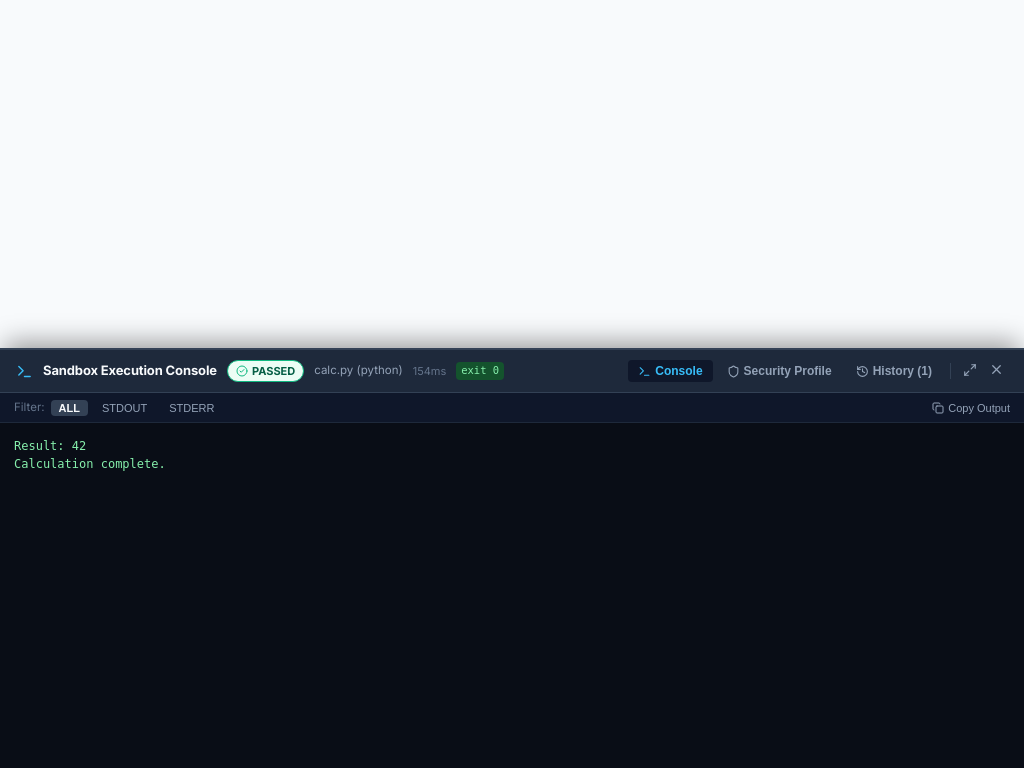
Phase 9: SandboxConsoleDrawer & Runtime UI › switches to Security Profile tab and shows sandbox limits
Click the button with test id "tab-security" at point(779, 371), box left=717, top=360, right=842, bottom=382
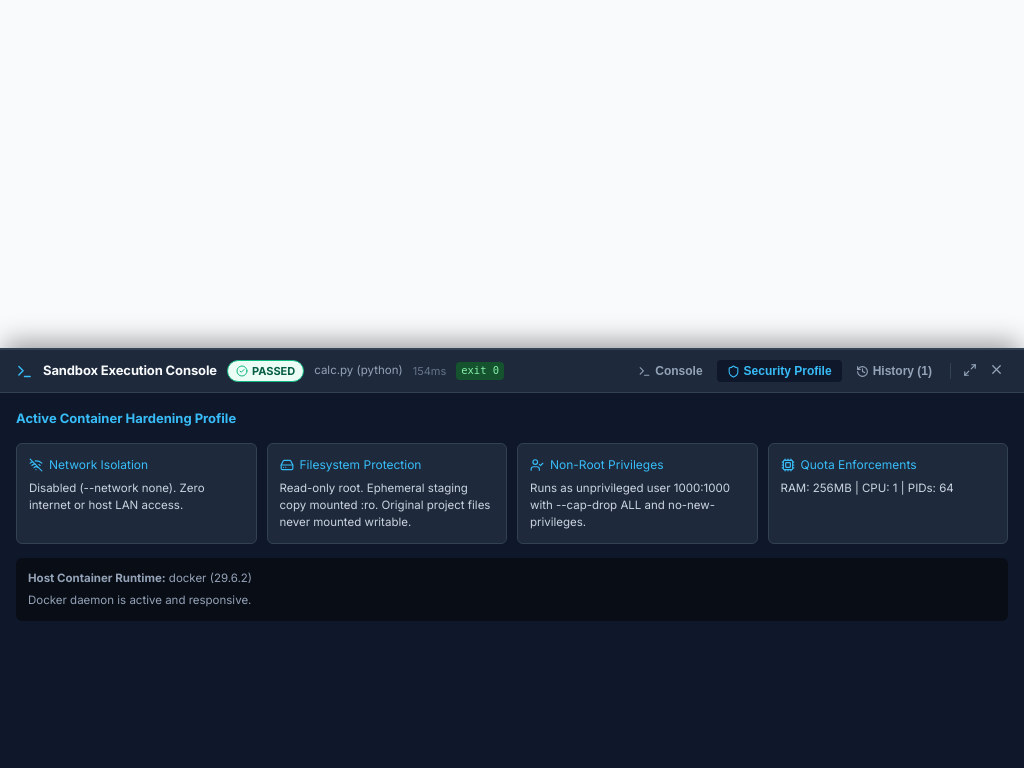
Now the element with test id "security-profile-view" is shown, box left=0, top=393, right=1023, bottom=637
Now the text "Active Container Hardening Profile" is shown, box left=16, top=410, right=236, bottom=426
Now the text "Network Isolation" is shown, box left=29, top=456, right=148, bottom=472
